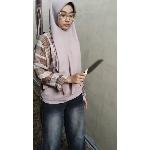Pisau: (76, 58, 107, 80)
